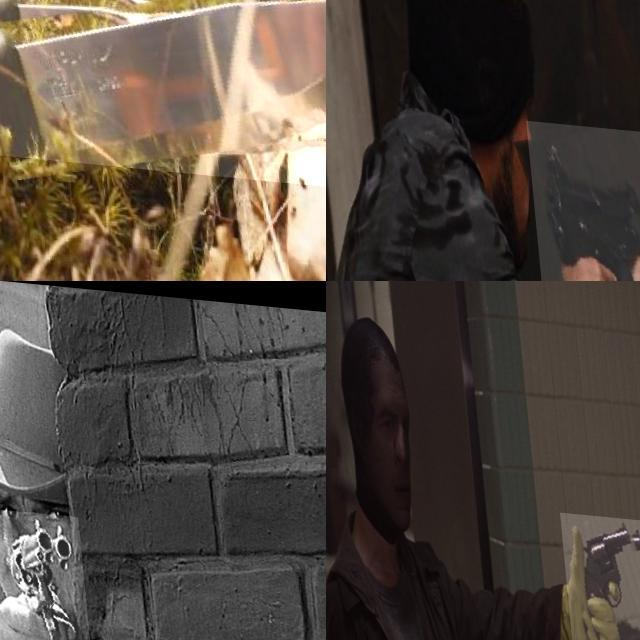-: (0, 0, 326, 186)
gun-knife-thesis - v11 Yolov5 augmented: (521, 116, 640, 281), (0, 502, 89, 640), (554, 506, 640, 640)
